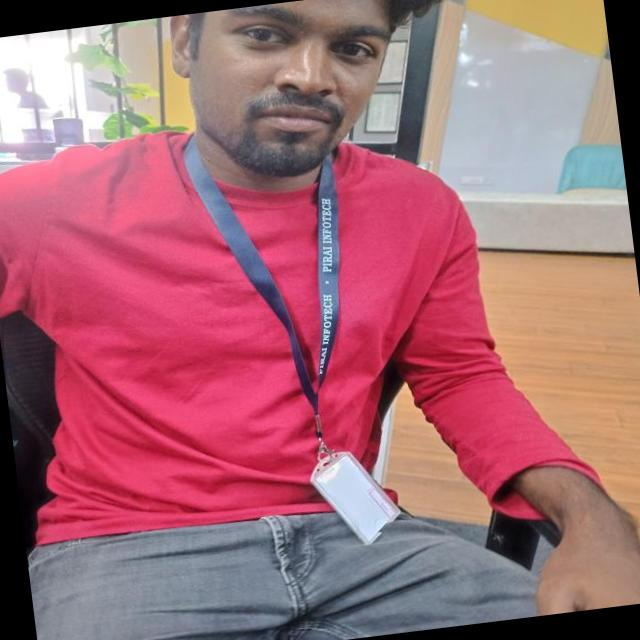id_card: (186, 143, 407, 568)
